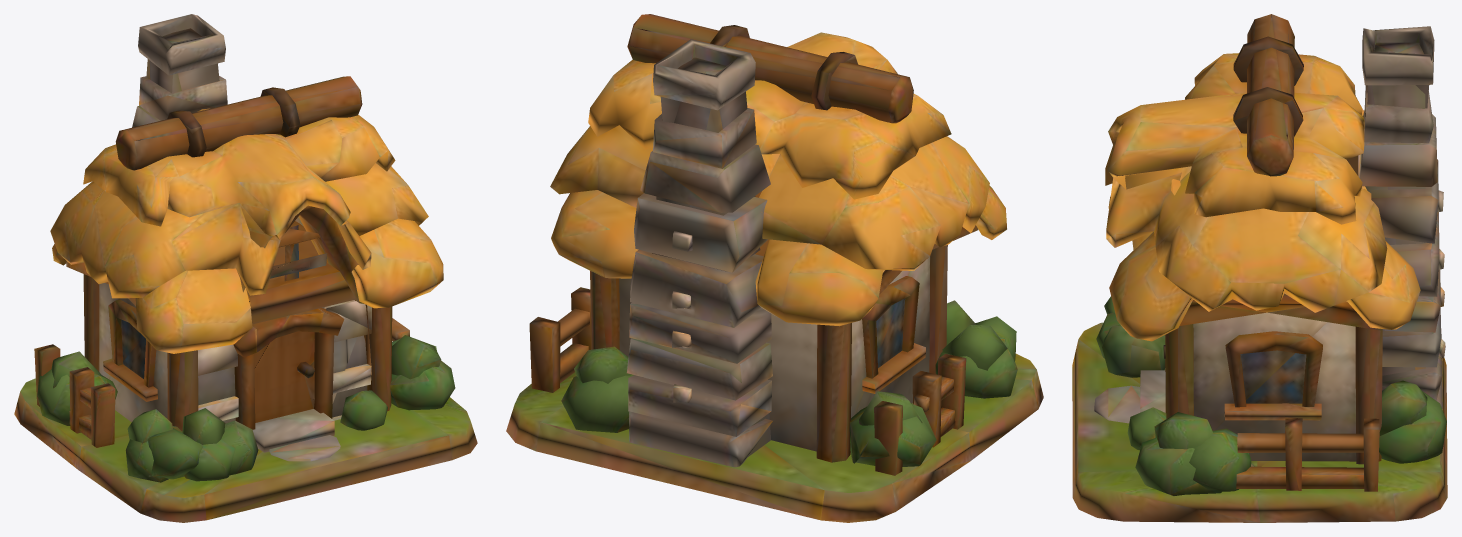
File: hut.glb
3 views of the same model, side by side, from view 1: azimuth 30°, elevation 25°; view 2: azimuth 150°, elevation 25°; view 3: azimuth 270°, elevation 25° (orthographic). The views are drawn at different scales.
Parts seen in each view (by area): view 1: hull; view 2: hull; view 3: hull.
Part boxes in pixels (box(x1,y1,x2,y2)): hull: box(14, 14, 477, 522); hull: box(506, 14, 1043, 522); hull: box(1072, 14, 1447, 522).
Size of the model in its own units: 1 by 1 by 0.8714.
Materials: 1 (1 with a texture image).
